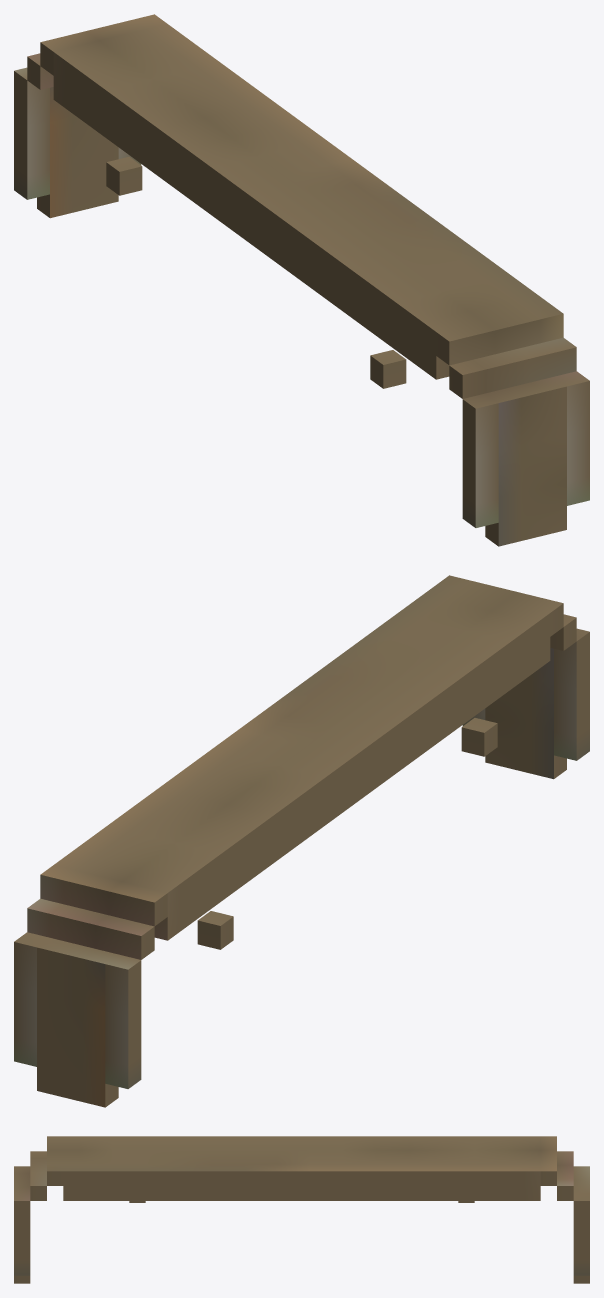
The model's file is LinenBrown_00.obj.
3 renders of one model, top to bottom at view 1: azimuth 30°, elevation 25°; view 2: azimuth 150°, elevation 25°; view 3: azimuth 270°, elevation 25°, orthographic. The views are drawn at different scales.
Visible parts, largest first — view 1: LinenBrown_00; view 2: LinenBrown_00; view 3: LinenBrown_00.
Boxes of the visible parts, x1,y1,x2,y2 form: LinenBrown_00: [14, 14, 589, 546]; LinenBrown_00: [14, 575, 589, 1107]; LinenBrown_00: [14, 1136, 589, 1283].
Size of the model in its own units: 0.25 by 0.4 by 1.75.
